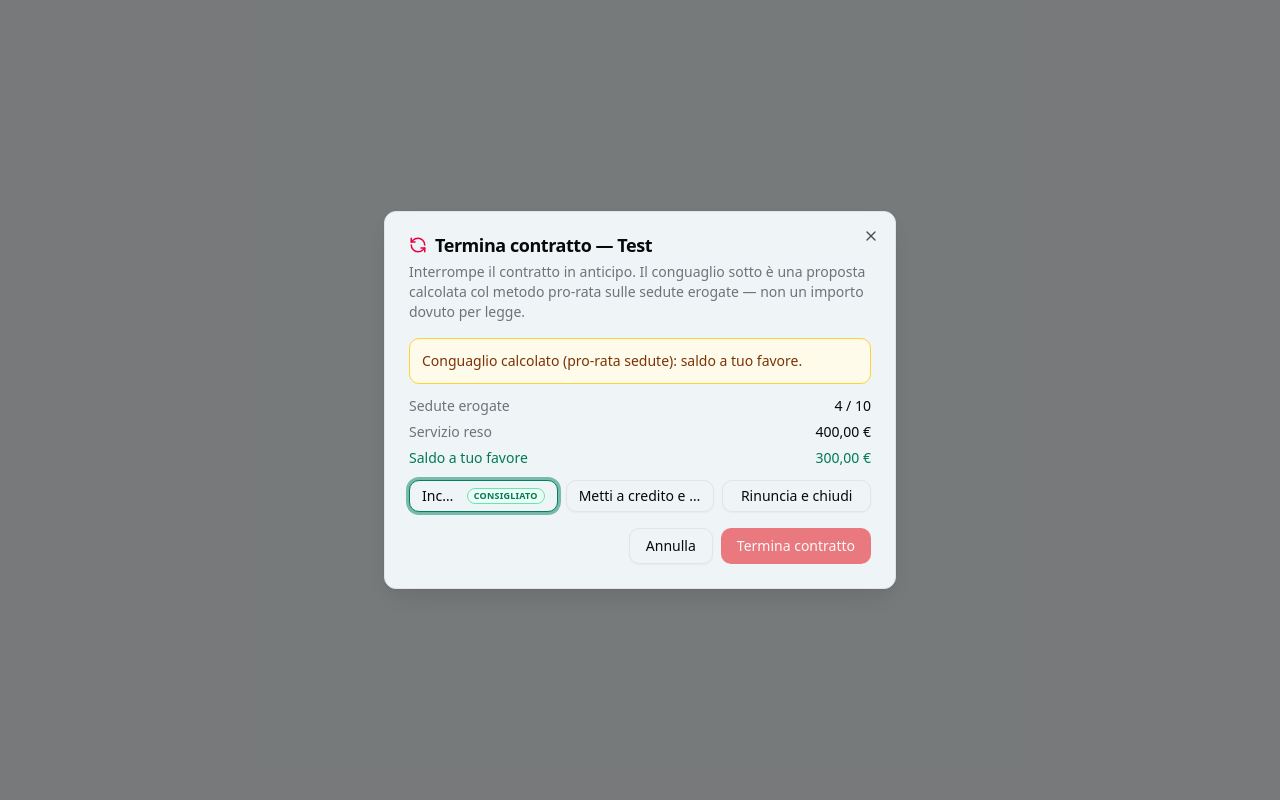
Test: AC-G84-4 — ramo trainer: scelta esplicita, raccomandazione solo visiva › AC-G84-8: rinuncia senza nota → submit disabilitato; con nota → abilitato
Click the button "Rinuncia e chiudi" at (797, 496), box [722, 480, 871, 512]
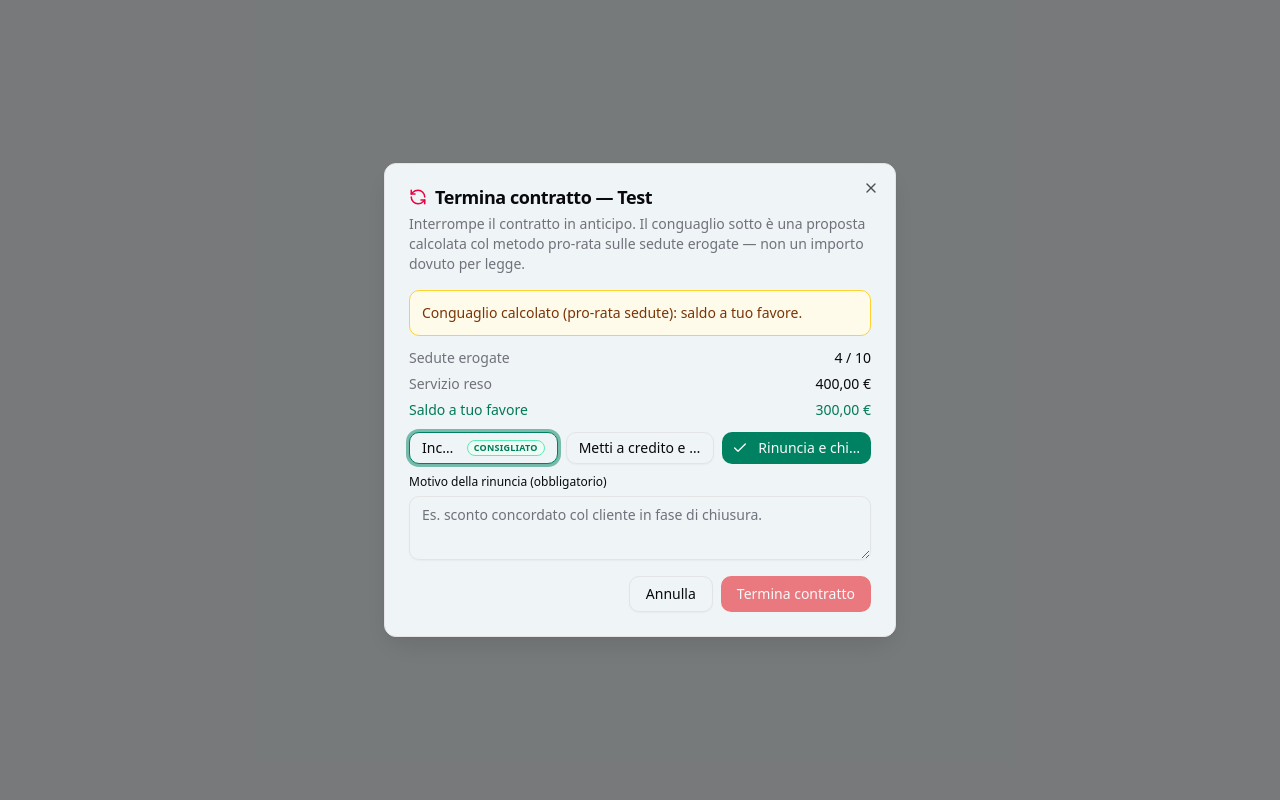
Expected: the button "Termina contratto" is disabled, [721, 576, 871, 612]
Type "Accordo bonario a chiusura." into the text box with placeholder "Es. sconto concordato col cliente in fase di chiusura." at (640, 528), box [409, 496, 871, 560]
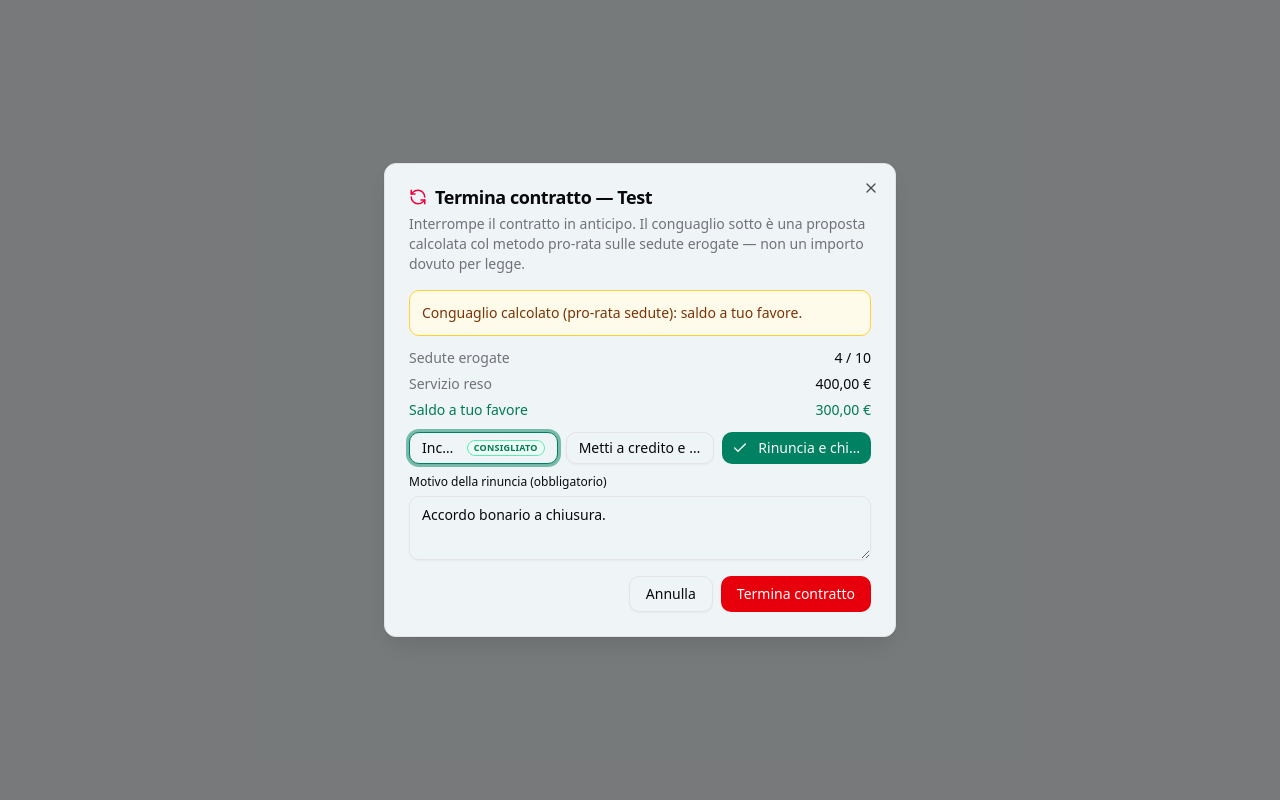
Now the button "Termina contratto" is enabled, box [721, 576, 871, 612]
